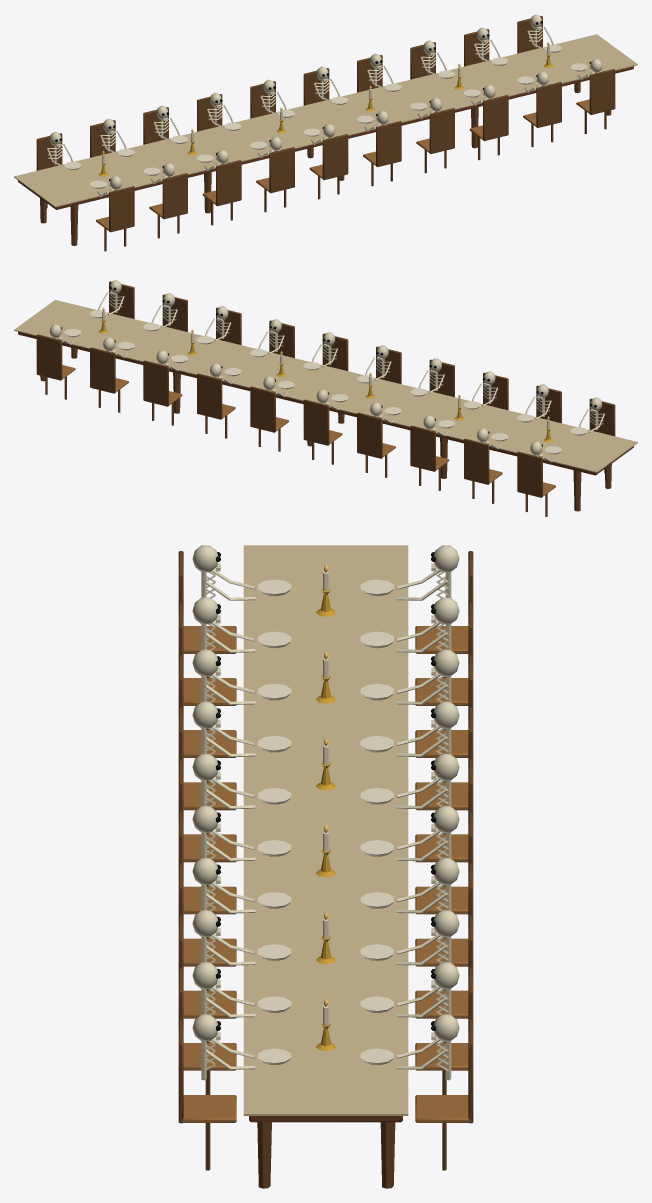
The model's file is banquet.glb.
The picture shows the model from 3 angles, top to bottom: view 1: azimuth 30°, elevation 25°; view 2: azimuth 150°, elevation 25°; view 3: azimuth 270°, elevation 25°; orthographic projection. The views are drawn at different scales.
Parts seen in each view (by area): view 1: banquet; view 2: banquet; view 3: banquet.
Part boxes in pixels (x1,y1,x2,y2): banquet: [14, 14, 637, 251]; banquet: [14, 280, 637, 516]; banquet: [178, 545, 473, 1188].
Bounding box in the file's own units: 13.1 × 1.56 × 2.87.
